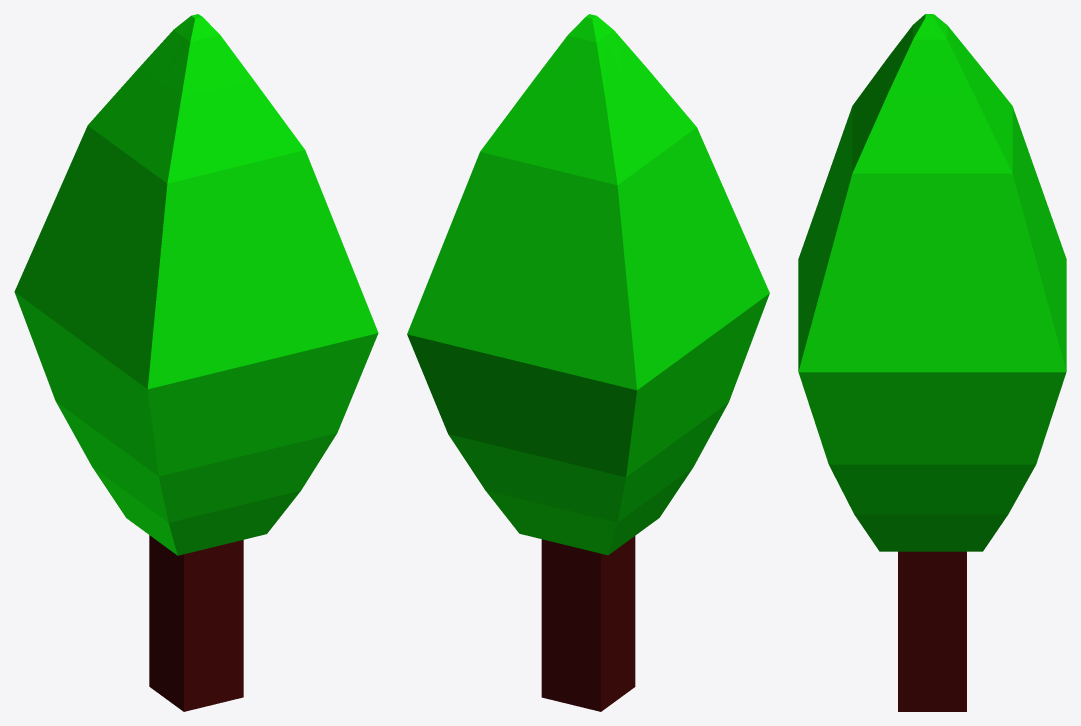
Rendered from Tree1.fbx.
3 renders of one model, left to right at view 1: azimuth 30°, elevation 25°; view 2: azimuth 150°, elevation 25°; view 3: azimuth 270°, elevation 25°, orthographic.
Visible parts, largest first — view 1: polySurface6; view 2: polySurface6; view 3: polySurface6.
Part boxes in pixels (x1,y1,x2,y2): polySurface6: [14, 14, 378, 711]; polySurface6: [407, 14, 769, 711]; polySurface6: [798, 14, 1066, 711].
Size of the model in its own units: 1.29 by 3.62 by 1.29.
